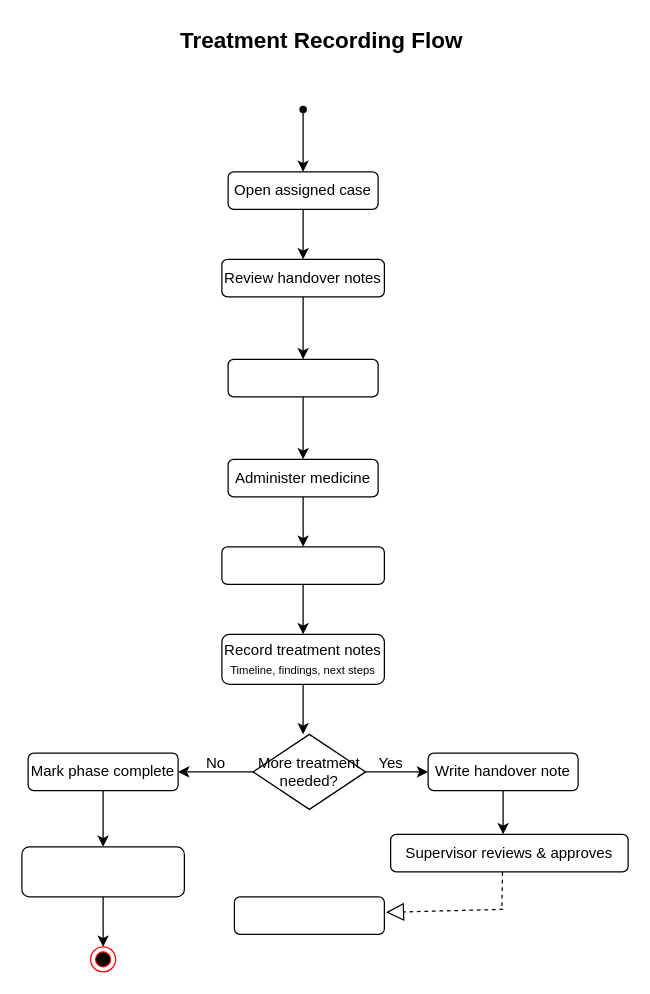
The diagram is 650 pixels wide and 994 high, and some of its shapes have lost their labels. The shapes that lost their labels are listed below. From the top down, each one's centre as x and y in pixels, then its label:
At [302,377]: "Conduct examination Diagnosis, treatment plan".
At [302,565]: "Deduct medicine stock".
At [102,871]: "Send treatment update notification".
At [308,915]: "Notify next volunteer doctor".
